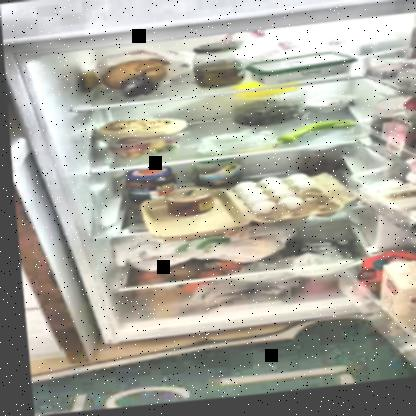cream_cheese: (246, 57, 349, 91)
eggs: (234, 177, 322, 219)
green_chillies: (272, 126, 352, 150)
milk: (377, 265, 415, 330)
olives: (232, 103, 303, 135)
red_onion: (120, 77, 150, 100)
